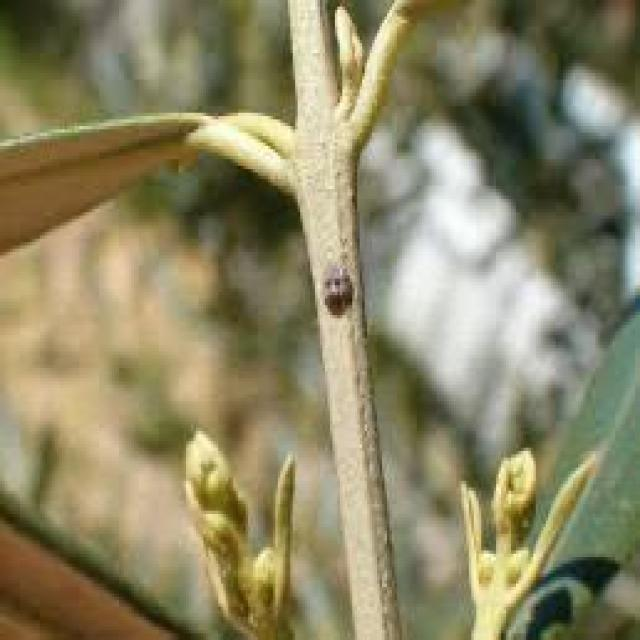Black Scale: (322, 265, 353, 315)
